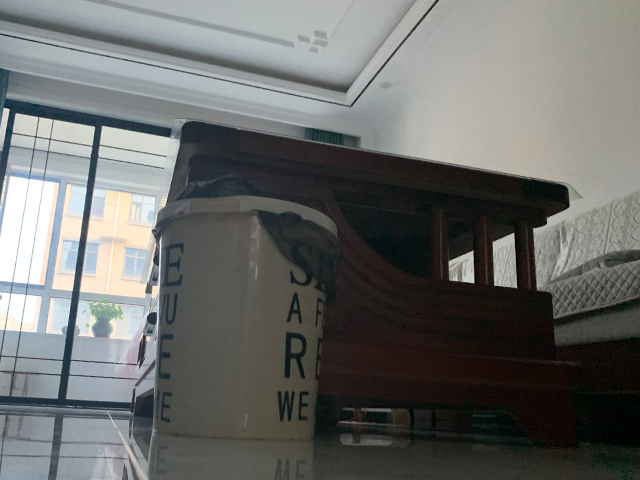table: (130, 120, 570, 443)
trashcan: (150, 193, 339, 443)
